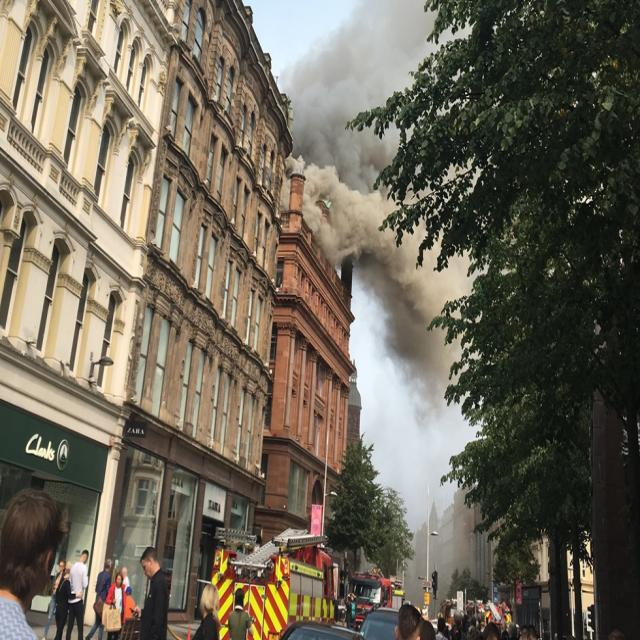Smoke: (307, 78, 380, 246), (383, 221, 438, 342), (352, 23, 438, 67)
